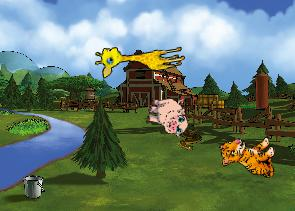giraffe: (93, 35, 186, 79)
pig: (143, 93, 191, 138)
tiger: (218, 131, 279, 185)
